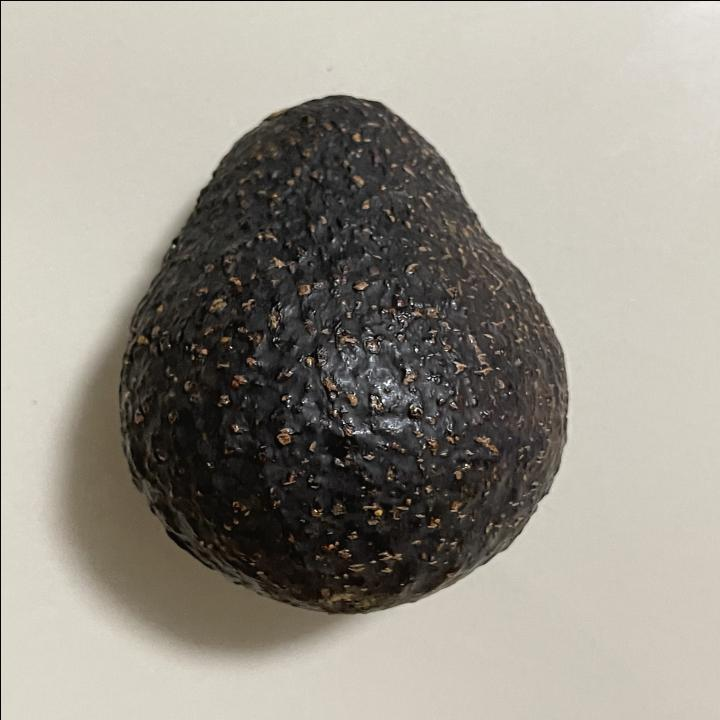Level3: (105, 85, 579, 620)
